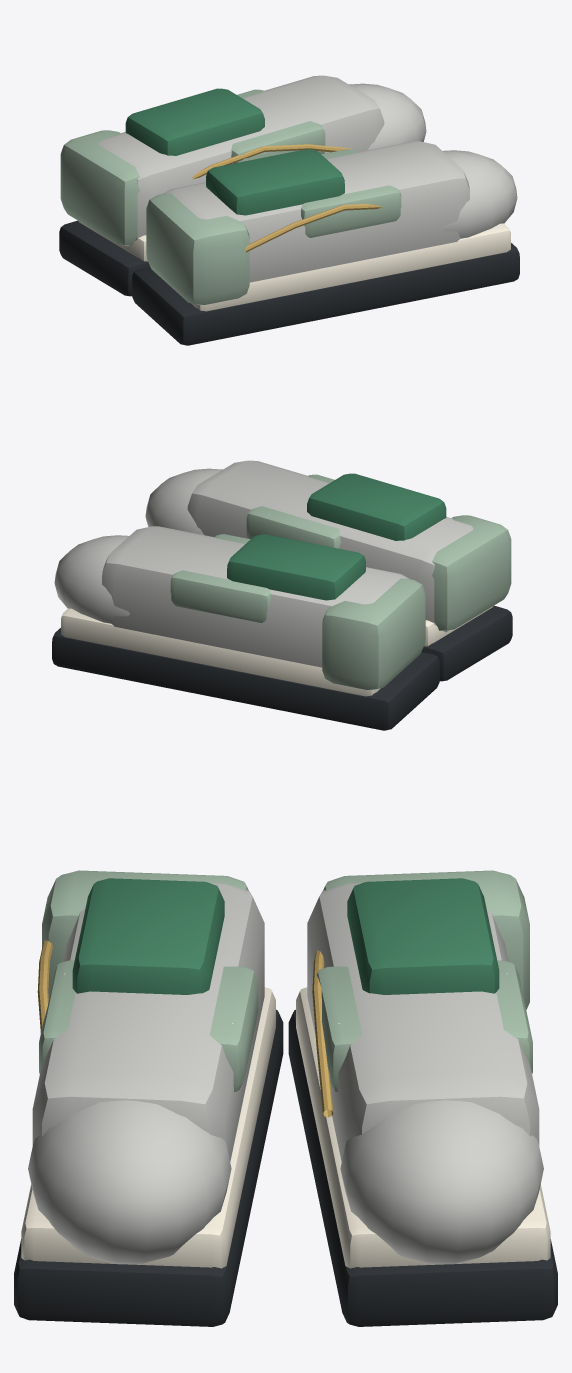
The model's file is checkout_product_shoe_pair.glb.
The picture shows the model from 3 angles, top to bottom: view 1: azimuth 30°, elevation 25°; view 2: azimuth 150°, elevation 25°; view 3: azimuth 270°, elevation 25°; orthographic projection. The views are drawn at different scales.
Parts seen in each view (by area): view 1: LeftUpper, LeftSole, RightUpper, LeftHeelCounter, RightHeelCounter, LeftTongue, RightTongue, LeftMidsole, LeftToe, LeftSaddle, RightSole, RightToe (+4 smaller); view 2: RightUpper, RightSole, LeftUpper, RightHeelCounter, LeftHeelCounter, RightTongue, LeftTongue, RightMidsole, RightToe, RightSaddle, LeftSole, LeftToe (+2 smaller); view 3: LeftUpper, RightUpper, LeftToe, RightToe, LeftSole, RightSole, LeftTongue, RightTongue, LeftMidsole, RightMidsole, LeftSaddle, RightSaddle (+4 smaller).
Part boxes in pixels (left/top/right/bottom): LeftUpper: left=162, top=141, right=469, bottom=282; LeftSole: left=132, top=243, right=519, bottom=345; RightUpper: left=98, top=75, right=384, bottom=247; LeftHeelCounter: left=146, top=193, right=249, bottom=304; RightHeelCounter: left=60, top=130, right=139, bottom=245; LeftTongue: left=206, top=149, right=344, bottom=215; RightTongue: left=125, top=88, right=264, bottom=155; LeftMidsole: left=191, top=223, right=510, bottom=311; LeftToe: left=442, top=150, right=517, bottom=238; LeftSaddle: left=301, top=149, right=401, bottom=237; RightSole: left=59, top=220, right=150, bottom=296; RightToe: left=349, top=83, right=426, bottom=149; RightUpper: left=102, top=526, right=409, bottom=667; RightSole: left=52, top=628, right=439, bottom=730; LeftUpper: left=187, top=460, right=473, bottom=632; RightHeelCounter: left=322, top=578, right=425, bottom=689; LeftHeelCounter: left=432, top=515, right=511, bottom=630; RightTongue: left=227, top=534, right=365, bottom=600; LeftTongue: left=307, top=473, right=446, bottom=540; RightMidsole: left=61, top=608, right=380, bottom=696; RightToe: left=54, top=535, right=129, bottom=623; RightSaddle: left=170, top=534, right=270, bottom=622; LeftSole: left=421, top=605, right=512, bottom=681; LeftToe: left=145, top=468, right=222, bottom=534; LeftUpper: left=32, top=883, right=264, bottom=1161; RightUpper: left=307, top=883, right=539, bottom=1161; LeftToe: left=28, top=1100, right=231, bottom=1264; RightToe: left=340, top=1100, right=543, bottom=1264; LeftSole: left=14, top=1009, right=283, bottom=1326; RightSole: left=288, top=1009, right=557, bottom=1326; LeftTongue: left=72, top=878, right=224, bottom=994; RightTongue: left=347, top=878, right=499, bottom=994; LeftMidsole: left=21, top=987, right=275, bottom=1268; RightMidsole: left=296, top=987, right=550, bottom=1268; LeftSaddle: left=39, top=960, right=258, bottom=1091; RightSaddle: left=313, top=960, right=532, bottom=1091.
Size of the model in its own units: 0.29 by 0.108 by 0.206.
